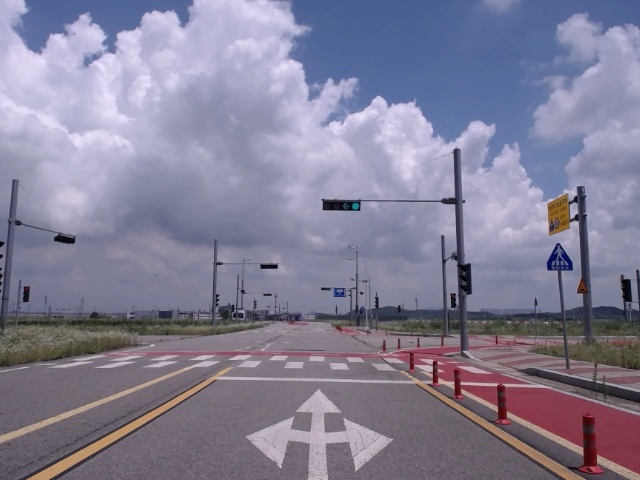all_green_4: (319, 197, 362, 213)
